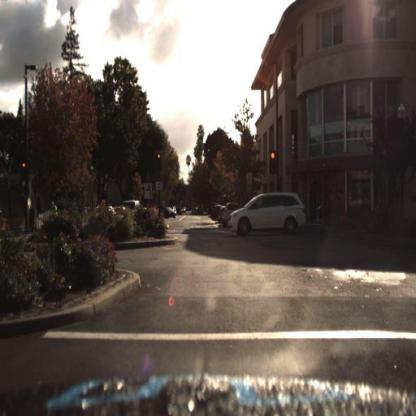biker: (44, 197, 62, 219)
car: (226, 190, 312, 235), (120, 199, 145, 227), (161, 204, 177, 220)
trafficLight-Red: (269, 147, 278, 173), (22, 156, 30, 175), (156, 145, 163, 166)
